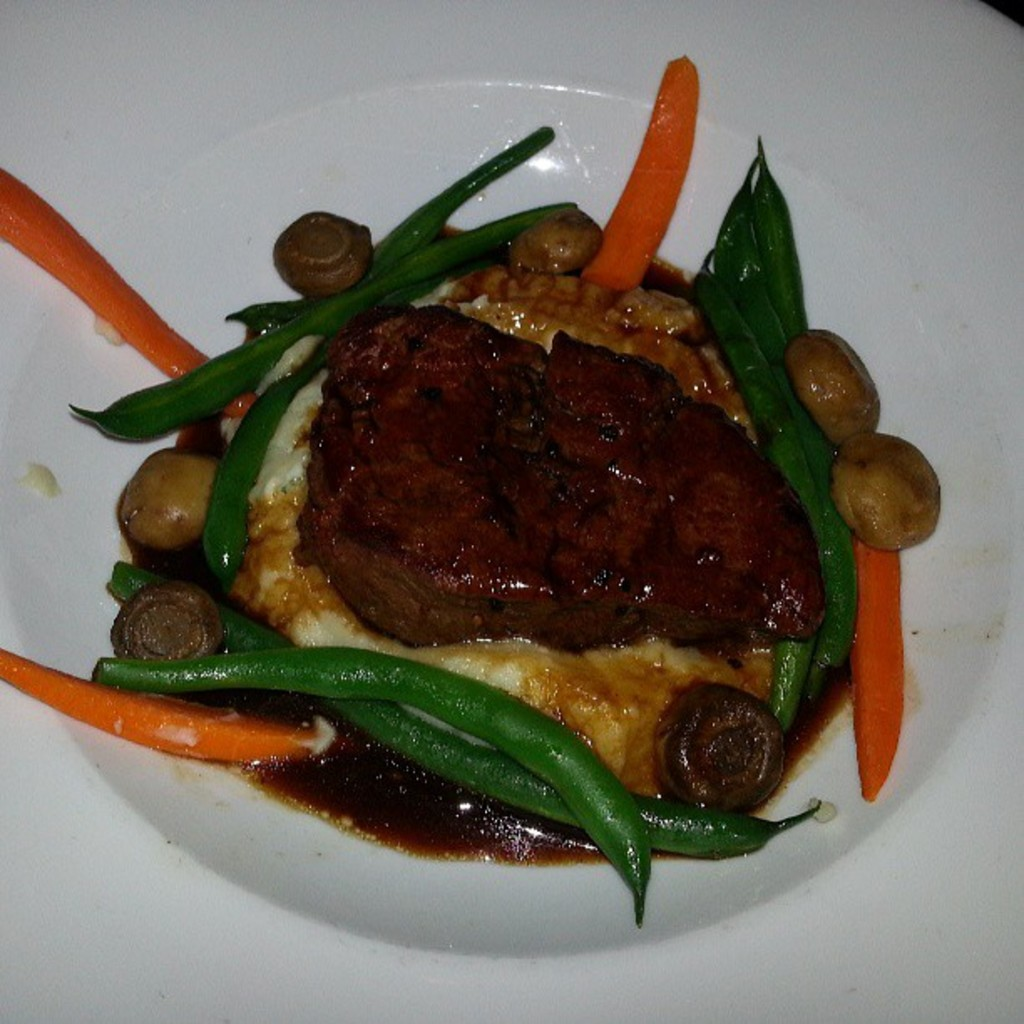Carrot: (0, 161, 261, 419), (0, 647, 335, 757), (580, 50, 700, 292), (856, 539, 906, 805)
